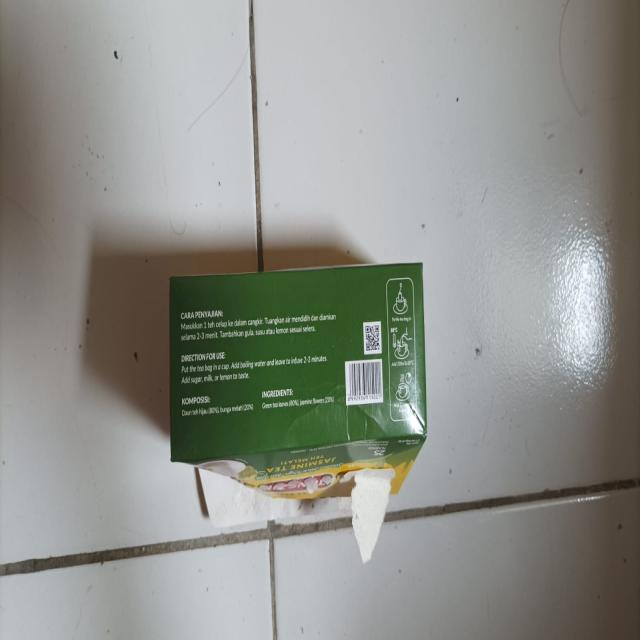Organik: (171, 263, 424, 566)
